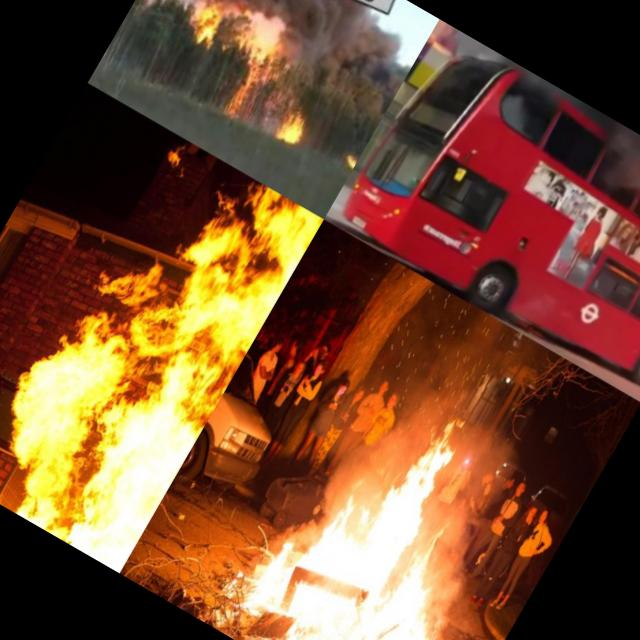fire: (0, 131, 324, 573), (223, 478, 474, 640), (377, 414, 500, 558), (184, 0, 235, 53), (222, 64, 266, 122), (274, 101, 318, 149)
smoke: (423, 26, 640, 231), (371, 286, 567, 472), (222, 0, 404, 112), (319, 371, 445, 521), (436, 466, 532, 582), (140, 0, 231, 22)
